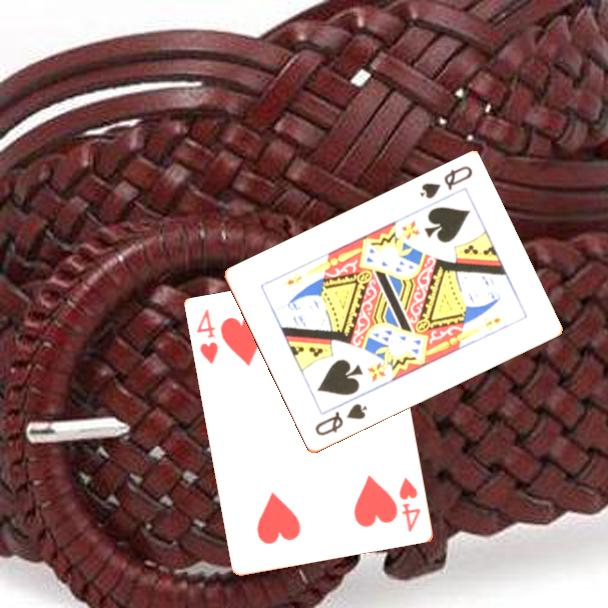h04: (396, 474, 424, 535), (193, 306, 221, 367)
s12: (311, 400, 370, 439), (416, 163, 475, 202)
